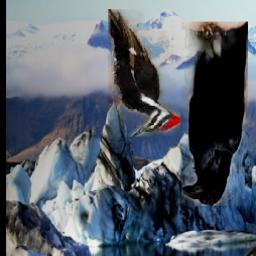Crow: (181, 22, 248, 206)
Woodpecker: (108, 9, 180, 137)
